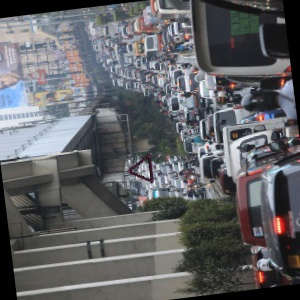triangle: (127, 152, 157, 185)
